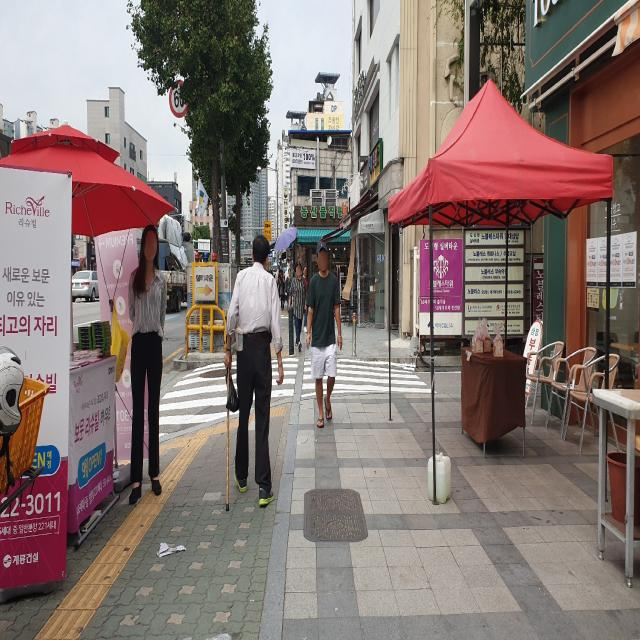횡단보도: (158, 356, 438, 440)
